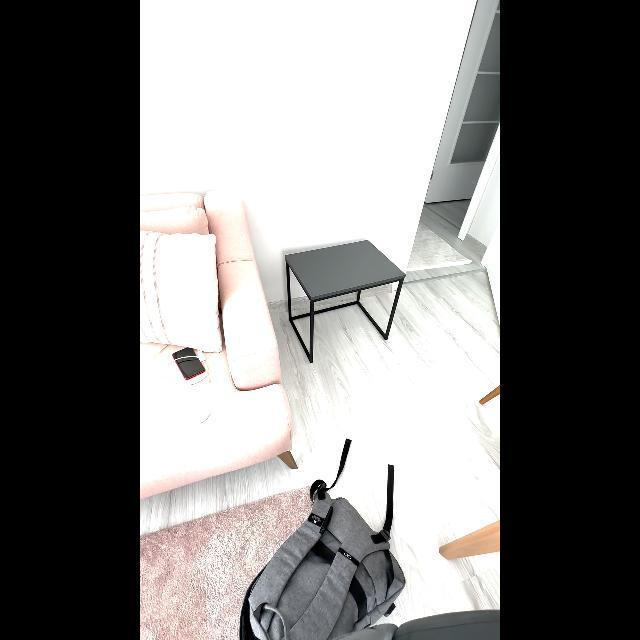coffee table: (278, 227, 414, 369)
